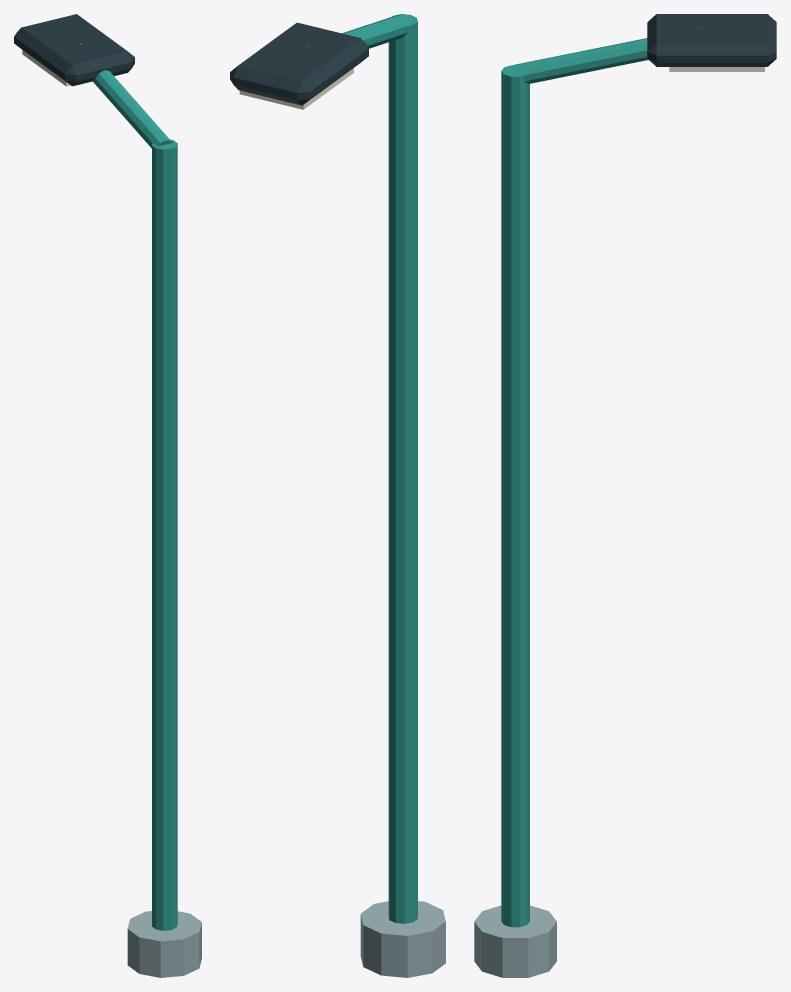
File: riverside_lamp.glb
3 views of the same model, side by side, from view 1: azimuth 30°, elevation 25°; view 2: azimuth 150°, elevation 25°; view 3: azimuth 270°, elevation 25° (orthographic). The views are drawn at different scales.
Visible parts, largest first — view 1: riverside_lamp.Root_Teal, riverside_lamp.Root_Dark, riverside_lamp.Root_Steel; view 2: riverside_lamp.Root_Teal, riverside_lamp.Root_Dark, riverside_lamp.Root_Steel, riverside_lamp.Root_Cream; view 3: riverside_lamp.Root_Teal, riverside_lamp.Root_Dark, riverside_lamp.Root_Steel.
Part boxes in pixels (<box>): riverside_lamp.Root_Teal: <box>79,43,177,930</box>; riverside_lamp.Root_Dark: <box>14,14,134,86</box>; riverside_lamp.Root_Steel: <box>127,911,201,977</box>; riverside_lamp.Root_Teal: <box>305,14,417,923</box>; riverside_lamp.Root_Dark: <box>230,22,368,105</box>; riverside_lamp.Root_Steel: <box>360,901,445,977</box>; riverside_lamp.Root_Cream: <box>239,68,353,109</box>; riverside_lamp.Root_Teal: <box>501,28,699,927</box>; riverside_lamp.Root_Dark: <box>647,14,776,66</box>; riverside_lamp.Root_Steel: <box>474,905,556,977</box>.
Bounding box in the file's own units: 0.34 × 3.98 × 1.17.
